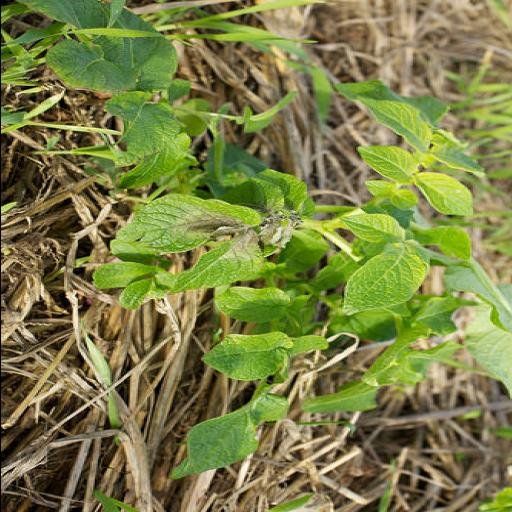disease_tomato: (106, 188, 269, 256), (164, 230, 268, 296)
